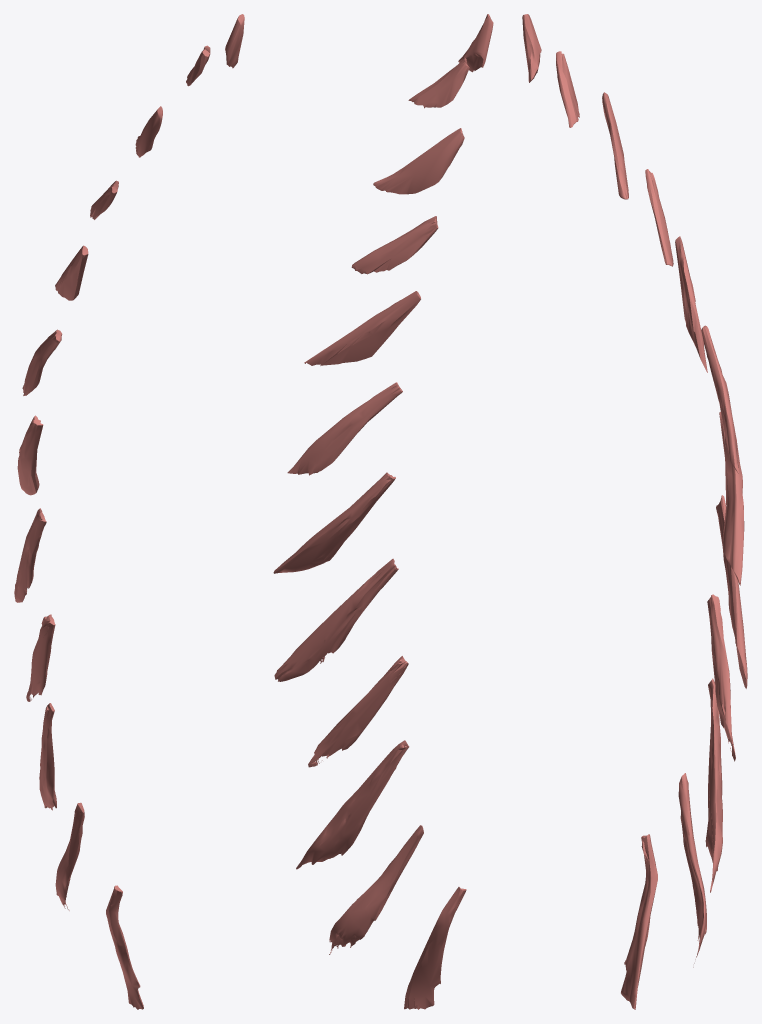
The model's file is fma74078_fj1462m.glb.
3 views of the same model, side by side, from view 1: azimuth 90°, elevation 25°; view 2: azimuth 150°, elevation 25°; view 3: azimuth 270°, elevation 25° (orthographic). The views are drawn at different scales.
Visible parts, largest first — view 1: FMA74078_FJ1462M; view 2: FMA74078_FJ1462M; view 3: FMA74078_FJ1462M.
Boxes of the visible parts, x1,y1,x2,y2 form: FMA74078_FJ1462M: (14, 14, 244, 1009); FMA74078_FJ1462M: (273, 14, 493, 1009); FMA74078_FJ1462M: (522, 14, 747, 1009).
Size of the model in its own units: 0.0501 by 0.3166 by 0.0659.
